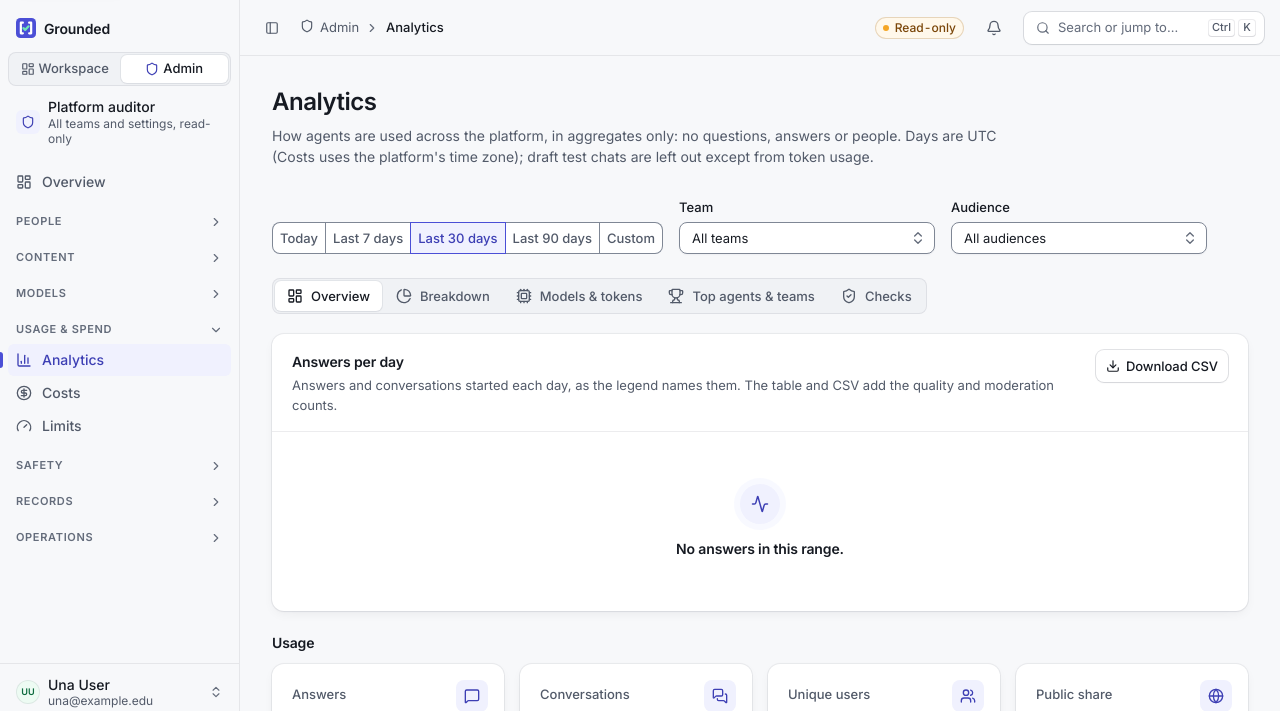
analytics judging › shows judging counts and added latency once passages were judged
Click the tab "Checks".
click(876, 296)  # box x1=829 y1=281 x2=924 y2=311
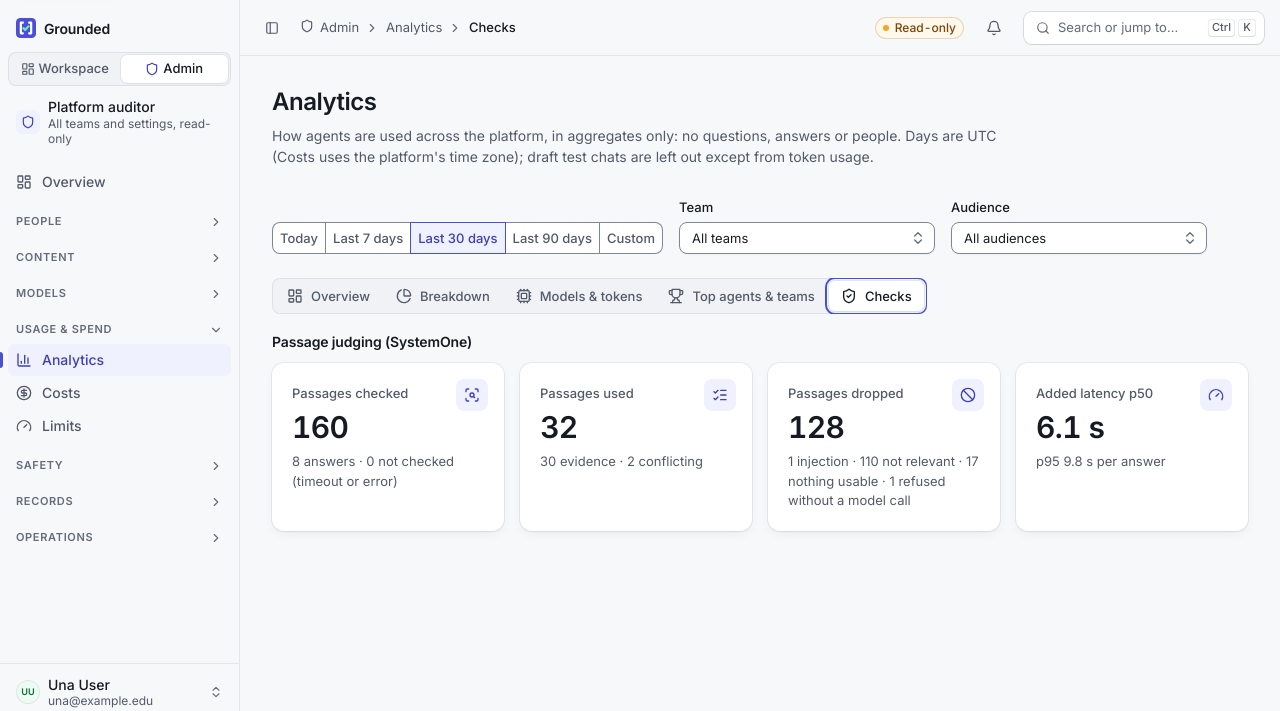
Now the element "Passage judging (SystemOne)" shows "160", box x1=292 y1=409 x2=348 y2=445
Now the element "Passage judging (SystemOne)" shows "1 injection · 110 not relevant · 17 nothing usable · 1 refused without a model call", box x1=788 y1=453 x2=979 y2=508
Now the element "Passage judging (SystemOne)" shows "6.1 s", box x1=1036 y1=409 x2=1104 y2=445
